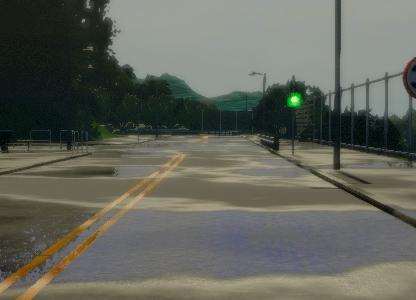Speed_30: (402, 53, 416, 102)
